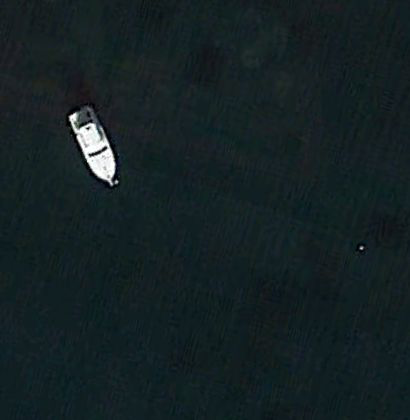boat: (69, 104, 119, 188)
